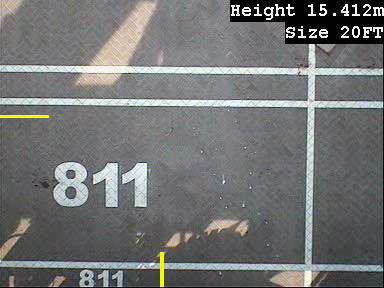groundmarker_2: (97, 87, 173, 137), (98, 219, 174, 268)
